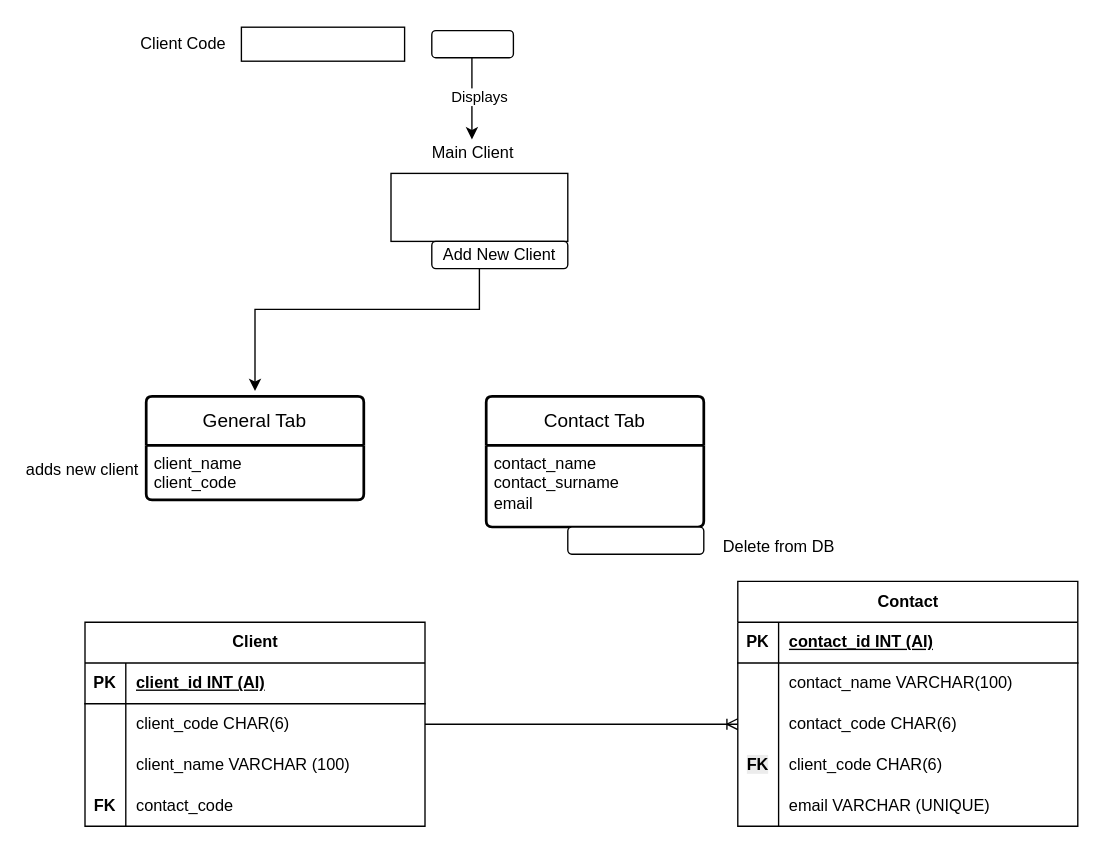
Image size: 1102x850. Some labels were removed from this diagram. The shapes that lost their labels are listed below. From the top down, each one's centre as x and y in pixels, then its label:
(471,43): Search
(479,206): Name Client Code Contacts
(635,540): Unlink through url
